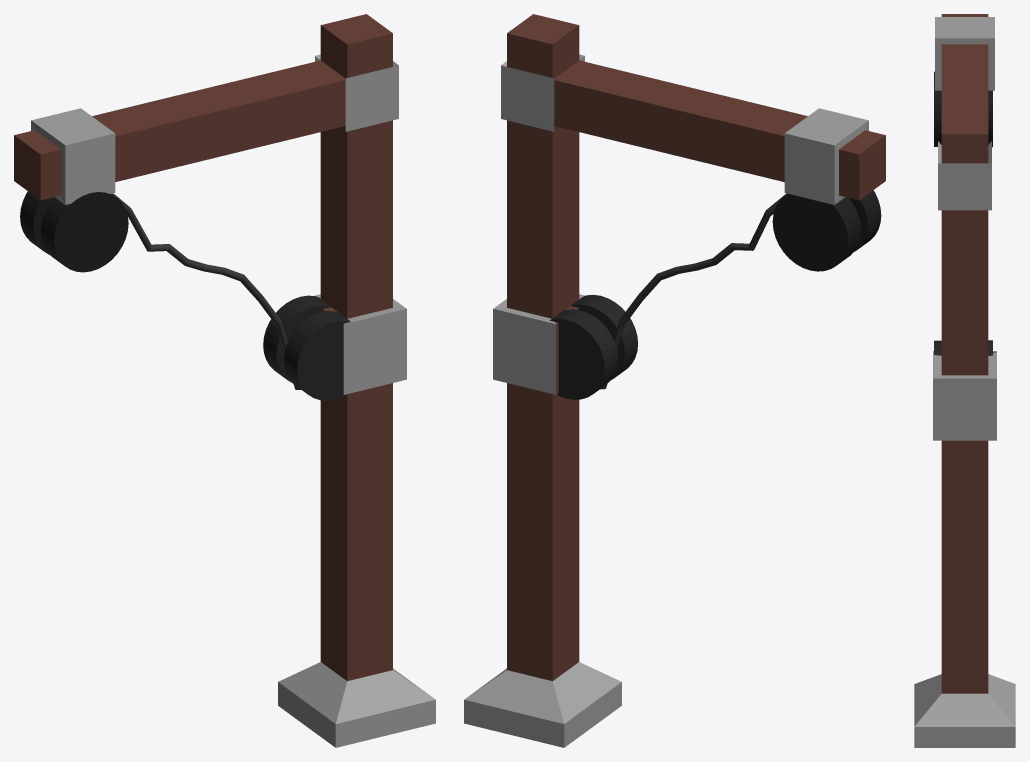
File: rope stand recieve .fbx
3 renders of one model, left to right at view 1: azimuth 30°, elevation 25°; view 2: azimuth 150°, elevation 25°; view 3: azimuth 270°, elevation 25°, orthographic. The views are drawn at different scales.
Parts seen in each view (by area): view 1: Cube, Cylinder, Cylinder.001, Cylinder.003; view 2: Cube, Cylinder.001, Cylinder, Cylinder.003; view 3: Cube, Cylinder, Cylinder.001.
Boxes of the visible parts, x1=… form: Cube: x1=14, y1=14, x2=435, y2=747; Cylinder: x1=20, y1=191, x2=128, y2=272; Cylinder.001: x1=263, y1=295, x2=350, y2=400; Cylinder.003: x1=112, y1=193, x2=300, y2=389; Cube: x1=464, y1=14, x2=885, y2=747; Cylinder.001: x1=550, y1=294, x2=637, y2=399; Cylinder: x1=772, y1=190, x2=881, y2=271; Cylinder.003: x1=600, y1=193, x2=787, y2=389; Cube: x1=914, y1=14, x2=1015, y2=747; Cylinder: x1=934, y1=71, x2=992, y2=147; Cylinder.001: x1=934, y1=340, x2=992, y2=355.
Bounding box in the file's own units: 547 × 944 × 144.
